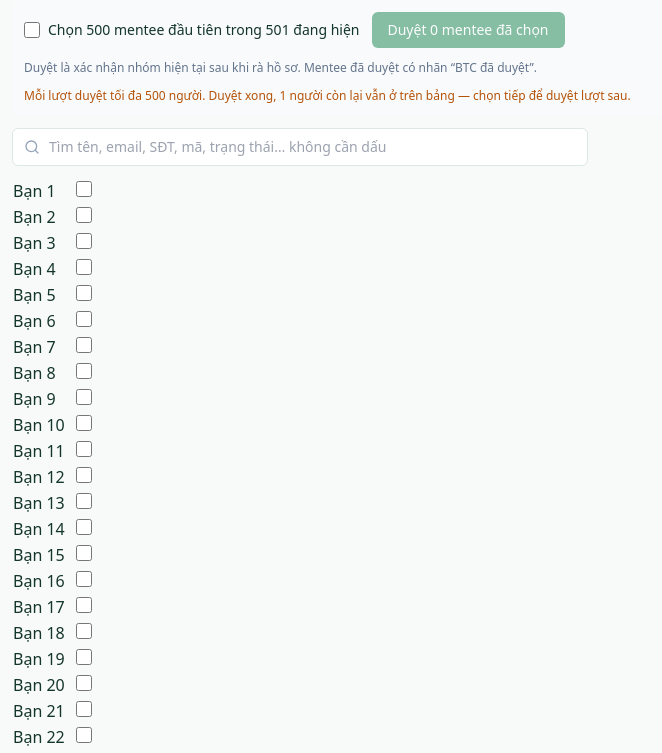
Scenario: trần 500 người mỗi lượt duyệt › bấm lại chính ô chọn khi đang vượt trần thì bỏ chọn hết (không kẹt ở 500)
Click the checkbox labelled "Chọn 500 mentee đầu tiên trong 501 đang hiện" at [32, 30], box top-left (24, 22), bottom-right (40, 38)
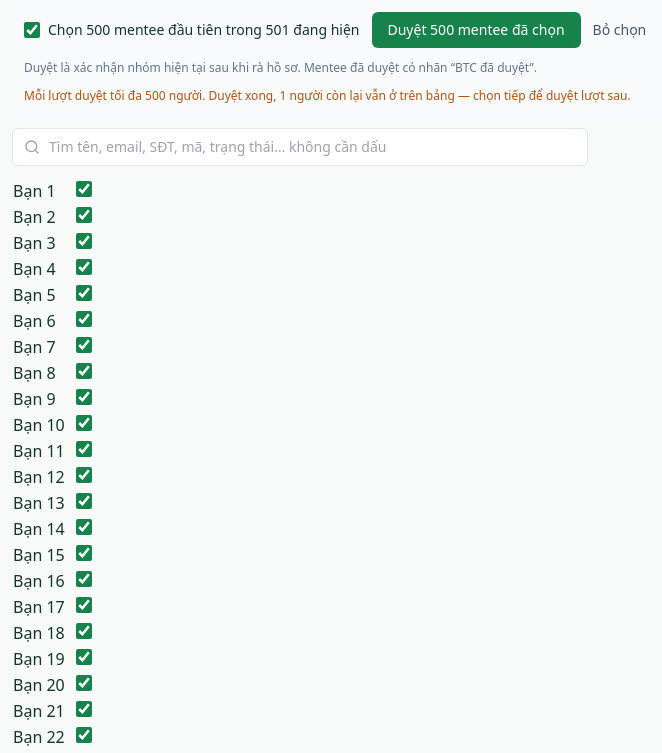
Expected: the checkbox labelled "Chọn 500 mentee đầu tiên trong 501 đang hiện" is checked
Click the checkbox labelled "Chọn 500 mentee đầu tiên trong 501 đang hiện" at [32, 30], box top-left (24, 22), bottom-right (40, 38)
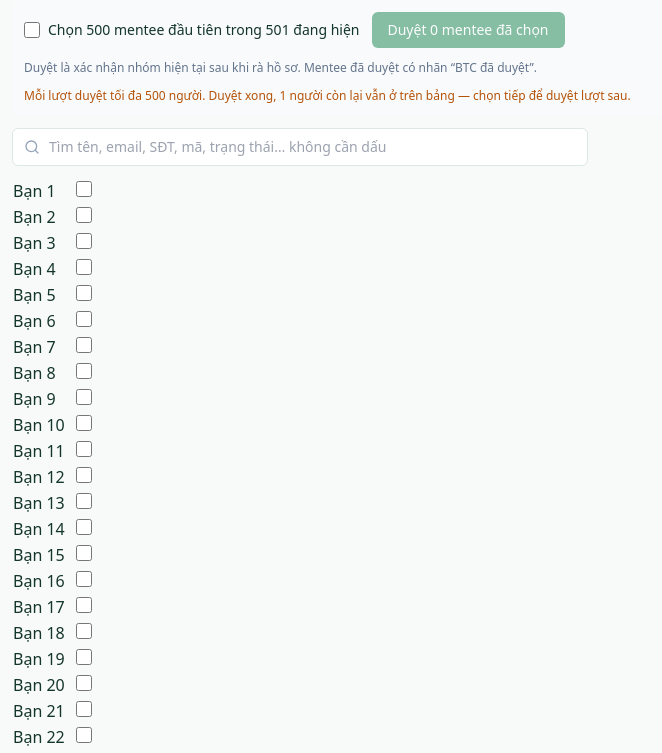
Expected: the checkbox labelled "Chọn 500 mentee đầu tiên trong 501 đang hiện" is not checked, top-left (24, 22), bottom-right (40, 38)
Expected: the button "Duyệt 0 mentee đã chọn" is shown, top-left (372, 12), bottom-right (564, 48)
